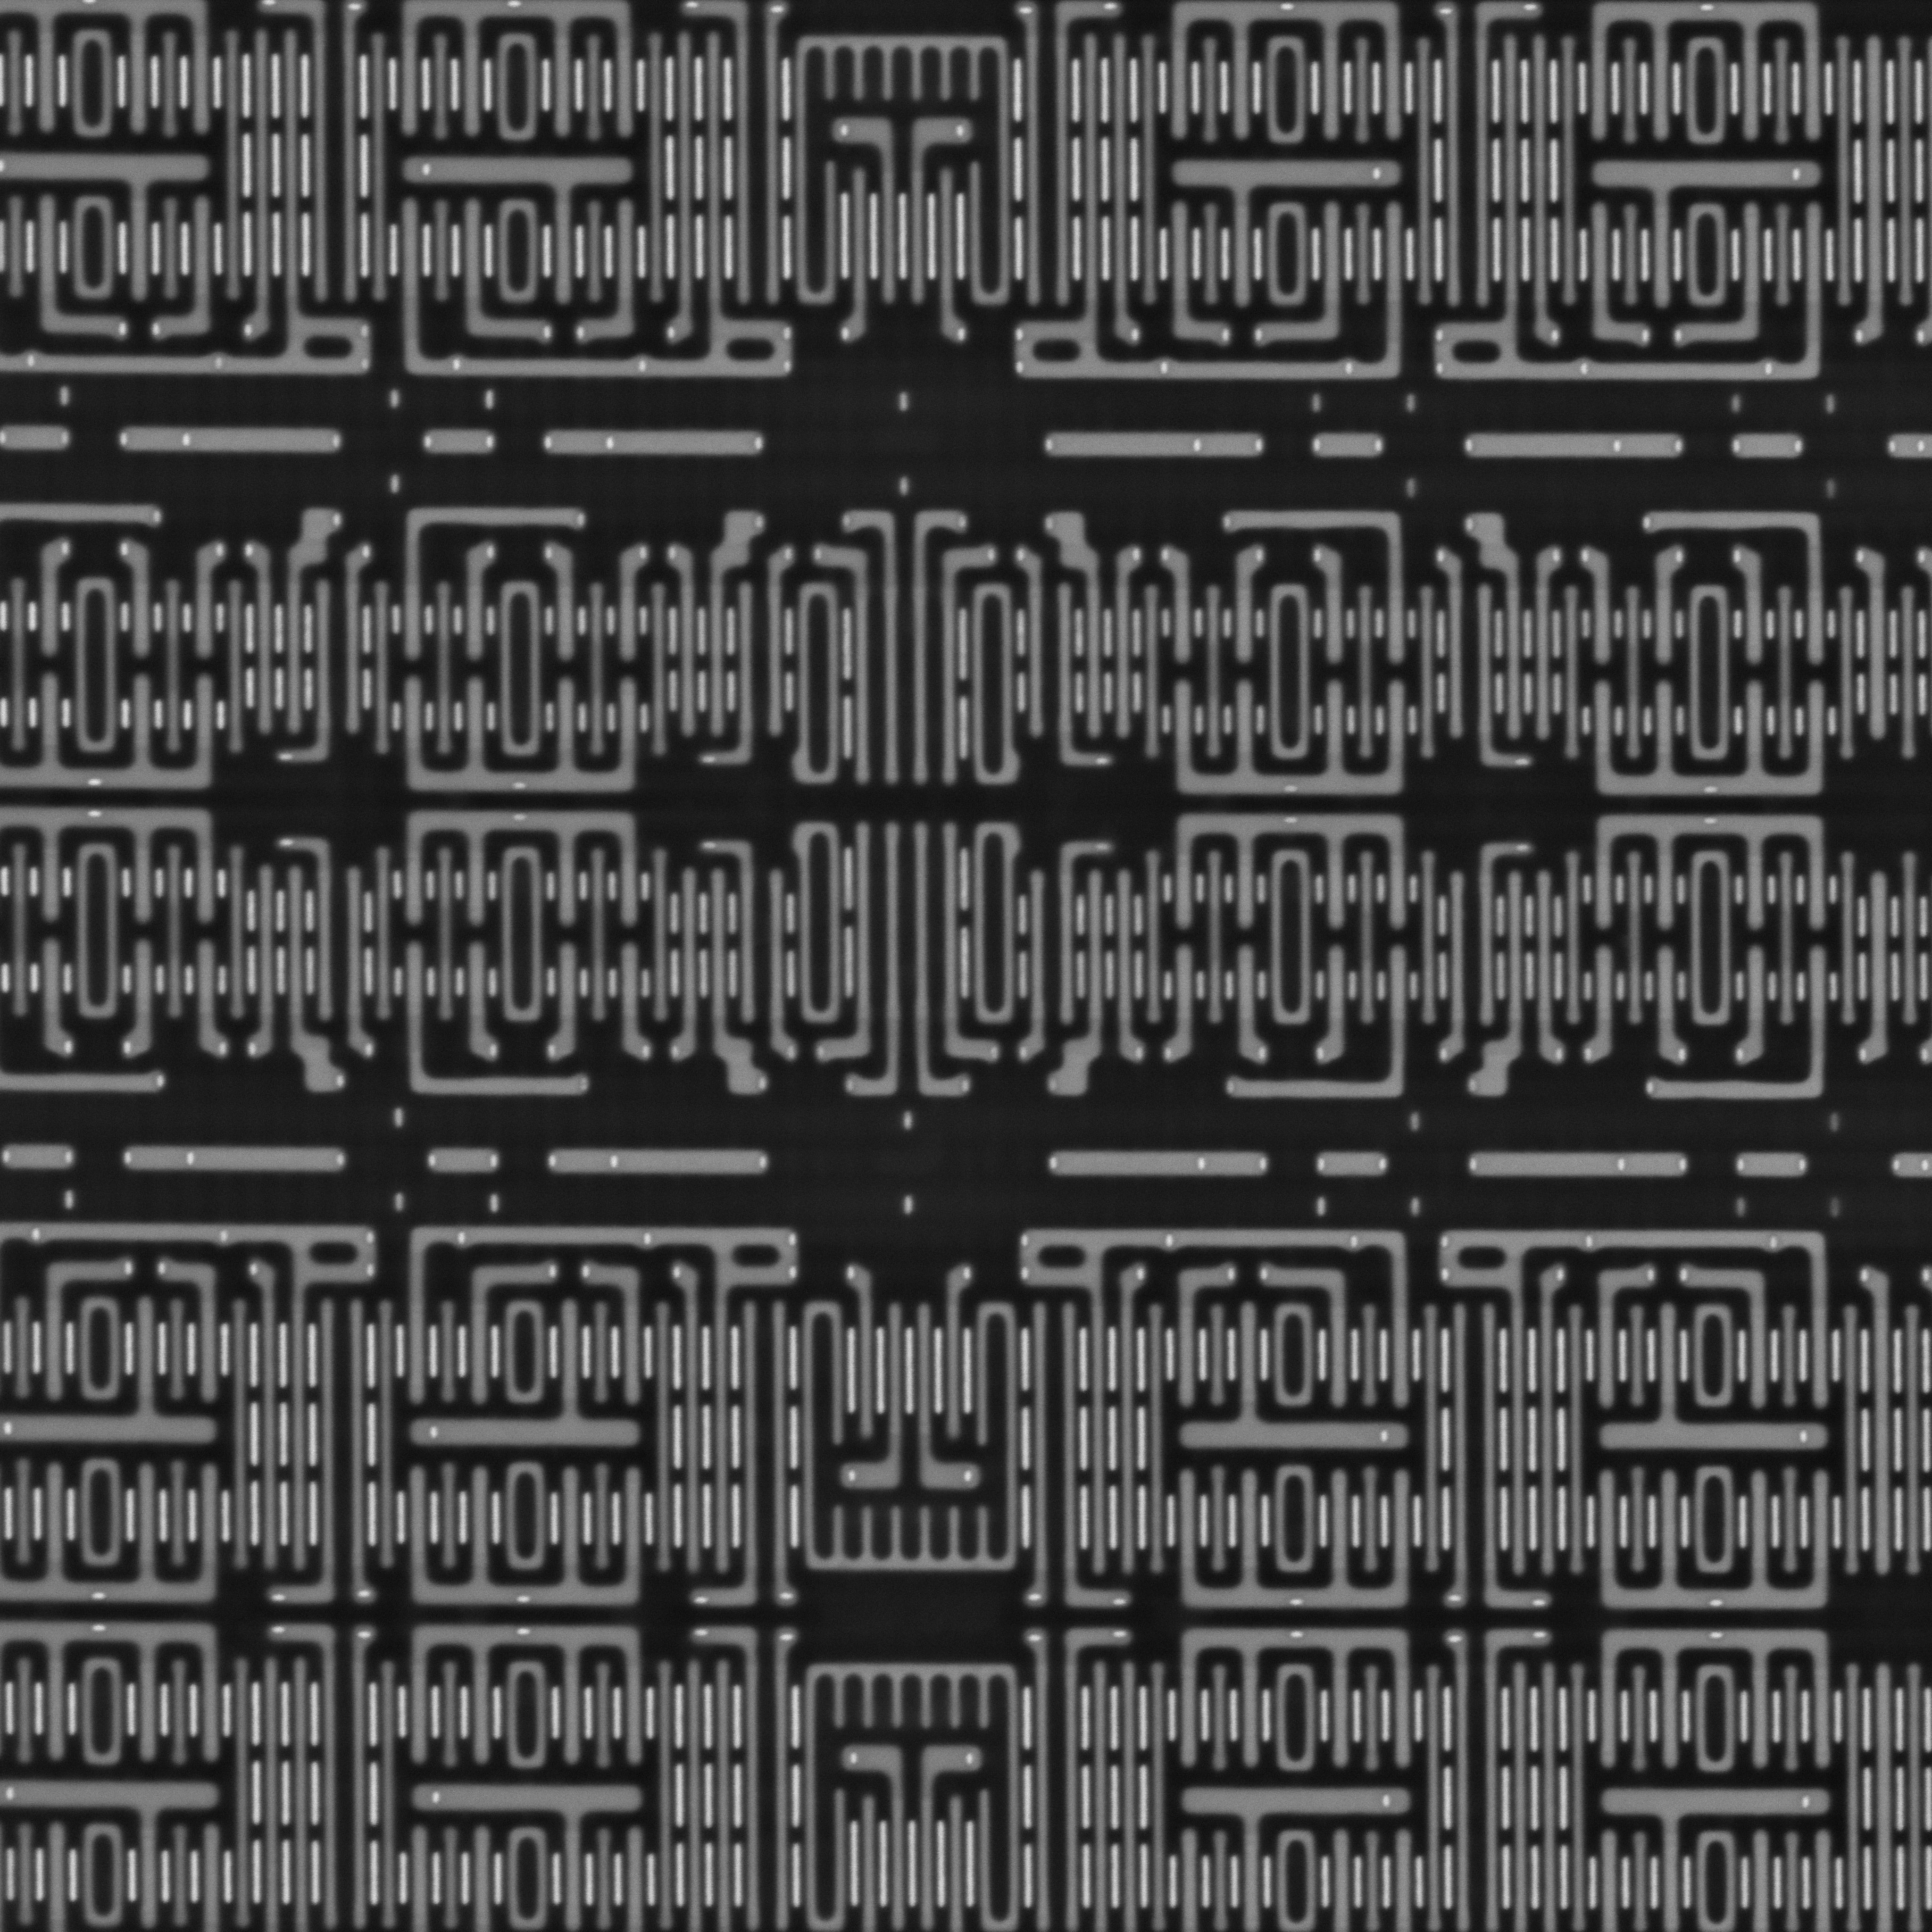multiGate: (1587, 1614, 1849, 1776), (1164, 1621, 1424, 1780), (1582, 1461, 1844, 1619), (1164, 1460, 1428, 1615), (398, 1458, 656, 1610), (1161, 0, 1412, 154), (395, 1622, 653, 1771), (1576, 2, 1838, 147), (389, 796, 655, 934), (389, 4, 648, 145), (1161, 809, 1419, 936), (1155, 678, 1422, 791)
publicGate: (812, 803, 1001, 1108), (817, 495, 994, 812), (1016, 1302, 1132, 1615), (1017, 1626, 1136, 1928), (265, 1297, 379, 1606), (267, 1621, 380, 1930), (1008, 0, 1122, 304), (686, 1626, 800, 1923), (1444, 1629, 1550, 1932), (1005, 543, 1116, 770), (1435, 543, 1537, 782), (276, 835, 380, 1067)
resistor: (1051, 1146, 1277, 1184), (1465, 1148, 1691, 1184), (548, 1146, 780, 1180), (1463, 430, 1695, 462), (122, 1146, 347, 1177), (1046, 432, 1267, 460), (117, 425, 347, 451), (543, 430, 766, 455), (2, 1143, 76, 1177), (1313, 1150, 1398, 1178), (1734, 1152, 1813, 1182), (425, 1146, 508, 1173), (421, 430, 501, 456), (1309, 433, 1389, 458), (2, 428, 76, 453), (1730, 433, 1805, 456)
singleGate: (1256, 195, 1357, 373), (274, 504, 350, 734), (1463, 515, 1541, 738), (1256, 1258, 1362, 1421), (1040, 515, 1115, 745), (453, 1258, 559, 1415), (692, 508, 764, 738), (1047, 860, 1115, 1102), (27, 189, 134, 340), (27, 1251, 134, 1399), (828, 111, 911, 304), (451, 198, 557, 349), (835, 1739, 918, 1930), (1677, 1261, 1783, 1410), (904, 1739, 985, 1930), (1675, 196, 1773, 350), (1856, 1265, 1904, 1576), (906, 1299, 980, 1493), (239, 25, 283, 347), (1523, 1261, 1568, 1582), (1109, 1254, 1152, 1585), (844, 1300, 915, 1499), (1102, 32, 1145, 350), (248, 1258, 290, 1571), (669, 1261, 711, 1575), (901, 111, 968, 306), (1856, 30, 1897, 347), (1520, 32, 1560, 343), (665, 28, 704, 347), (154, 1256, 232, 1415), (1585, 1261, 1661, 1422), (1162, 1261, 1238, 1412), (1159, 195, 1233, 345), (579, 1261, 653, 1410), (1580, 200, 1654, 345), (1851, 867, 1902, 1065), (579, 198, 648, 343), (154, 196, 223, 336), (839, 1260, 890, 1445), (662, 543, 709, 738), (241, 543, 287, 745), (1525, 869, 1571, 1069), (242, 862, 287, 1060), (1523, 540, 1564, 747), (1106, 862, 1146, 1067), (671, 867, 711, 1063), (837, 163, 878, 354), (929, 163, 971, 345), (936, 1256, 973, 1454), (1637, 541, 1691, 667), (1644, 936, 1691, 1074), (1309, 545, 1359, 678), (541, 939, 593, 1067), (605, 941, 656, 1067), (1161, 943, 1210, 1072), (115, 536, 163, 669), (1311, 939, 1361, 1067), (30, 936, 80, 1060), (1224, 941, 1274, 1065), (456, 938, 504, 1065), (1159, 540, 1205, 669), (605, 538, 648, 678), (1580, 941, 1628, 1065), (120, 934, 165, 1067), (1730, 541, 1776, 669), (1732, 941, 1778, 1069), (543, 540, 589, 665), (1580, 543, 1626, 669), (23, 536, 71, 655), (453, 536, 495, 662), (1224, 540, 1267, 665), (186, 938, 228, 1063), (182, 536, 225, 660)
